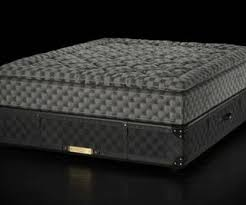bed-matress: (1, 37, 245, 126)
